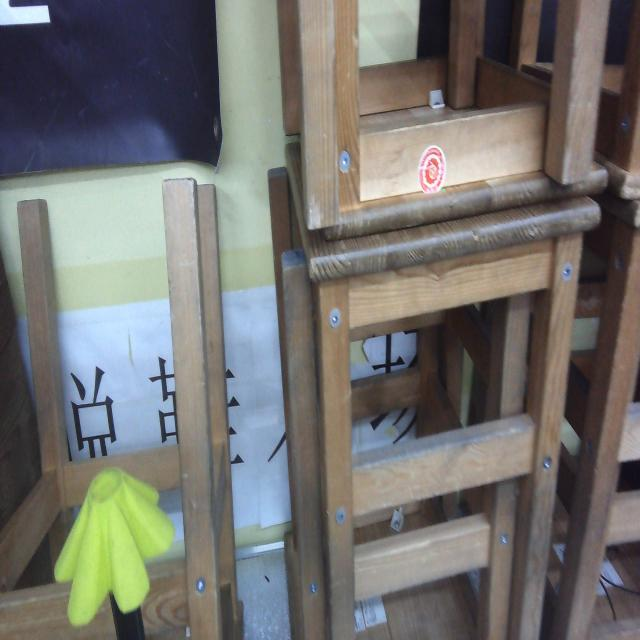Yellow-Stake-Head: (54, 467, 174, 626)
